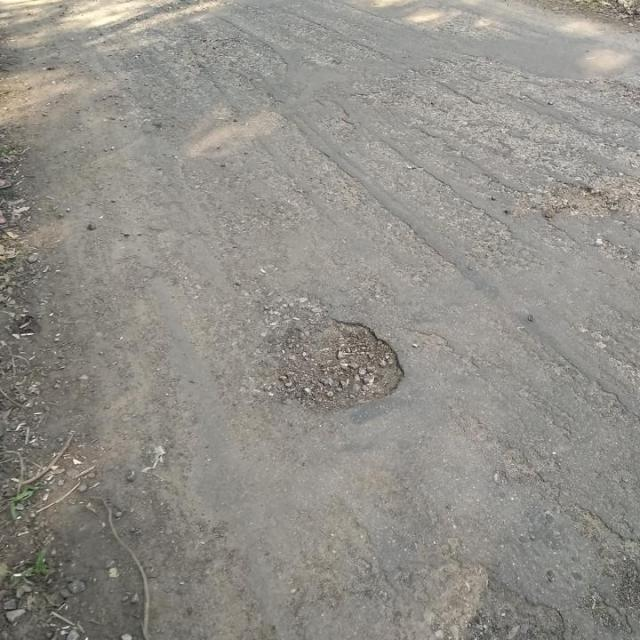Pothole: (260, 314, 411, 412), (550, 178, 614, 218)
